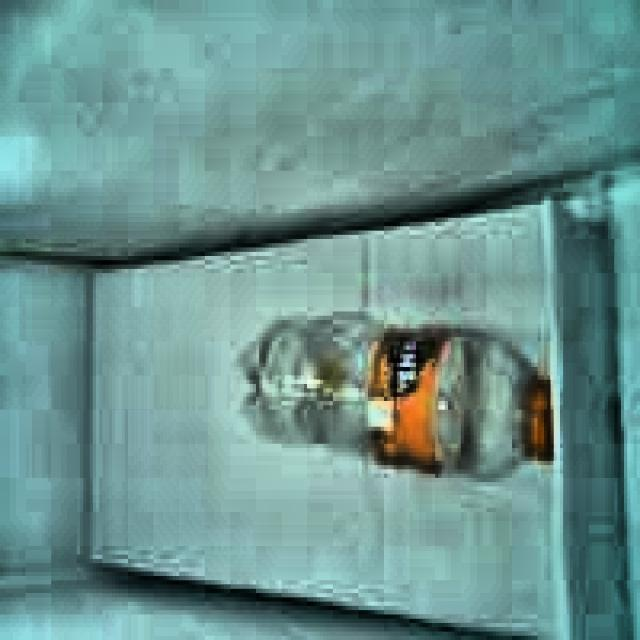plastic bottle: (256, 318, 554, 480)
